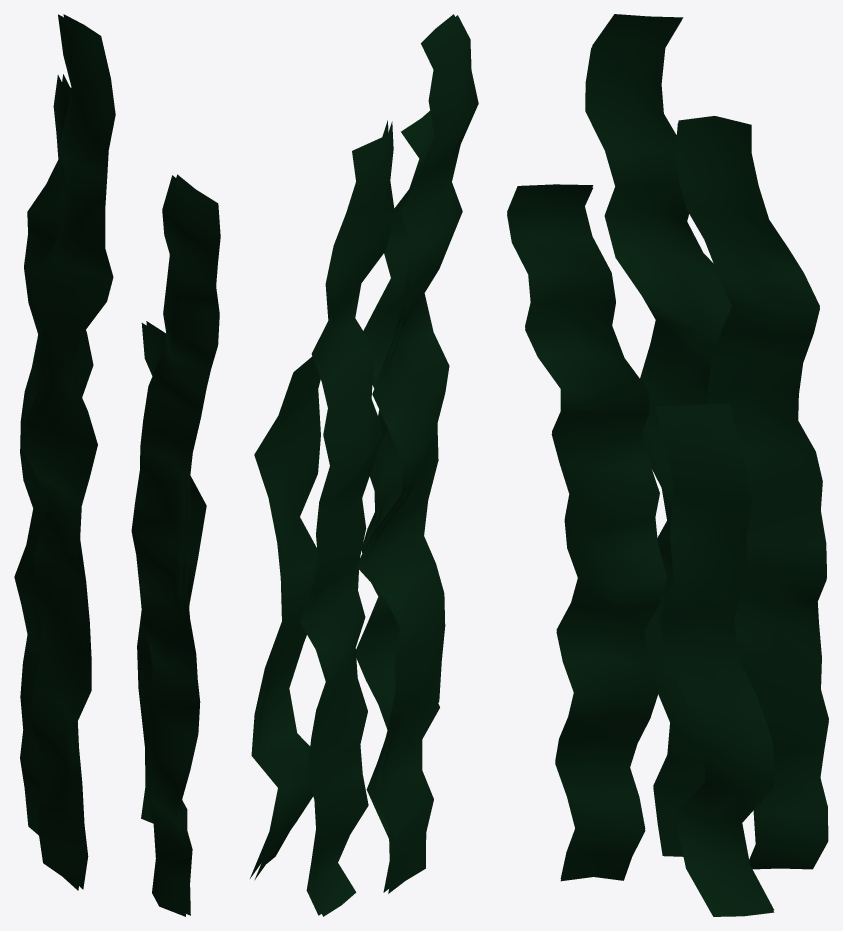
File: seaweed.FBX
3 renders of one model, left to right at view 1: azimuth 30°, elevation 25°; view 2: azimuth 150°, elevation 25°; view 3: azimuth 270°, elevation 25°, orthographic. The views are drawn at different scales.
Visible parts, largest first — view 1: Plane003; view 2: Plane003; view 3: Plane003.
Boxes of the visible parts, x1,y1,x2,y2 form: Plane003: [14, 14, 220, 916]; Plane003: [250, 14, 478, 916]; Plane003: [507, 14, 828, 916].
Bounding box in the file's own units: 14.27 × 74.13 × 25.87.
